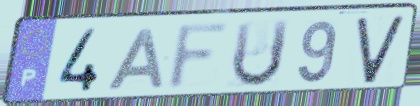4: (55, 26, 102, 96)
9: (295, 19, 338, 85)
A: (104, 26, 167, 93)
F: (163, 20, 235, 94)
U: (228, 17, 293, 90)
V: (354, 12, 408, 86)
